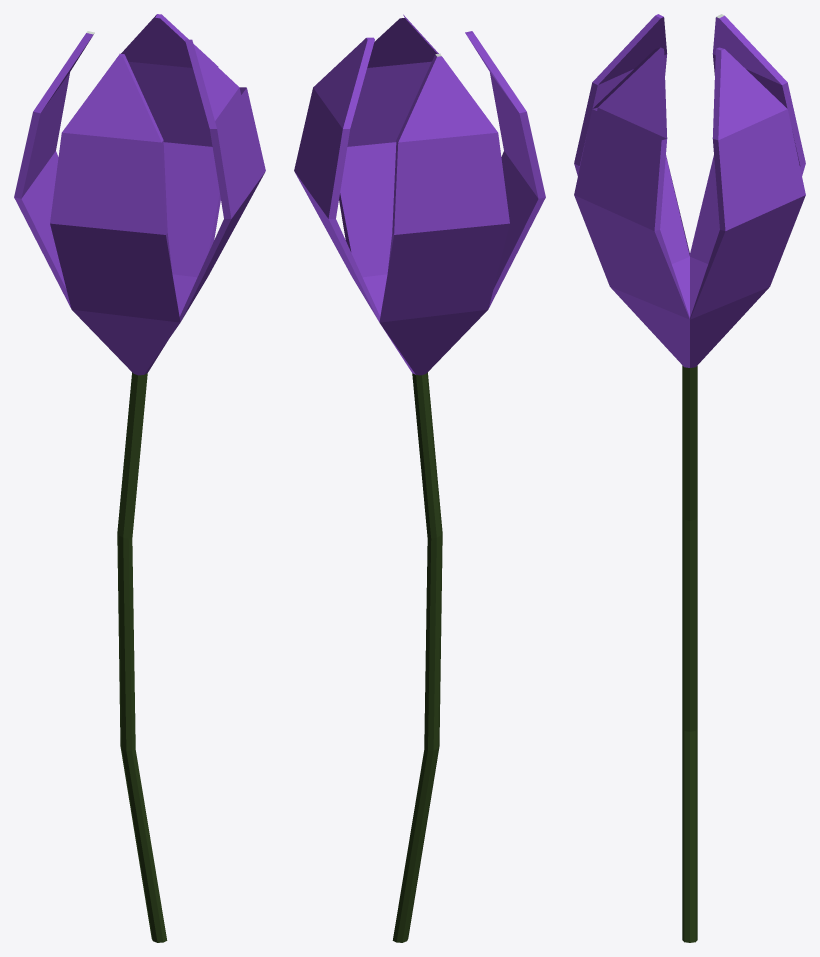
Rendered from flormodelo2.fbx.
3 views of the same model, side by side, from view 1: azimuth 30°, elevation 25°; view 2: azimuth 150°, elevation 25°; view 3: azimuth 270°, elevation 25° (orthographic).
Visible parts, largest first — view 1: Circle; view 2: Circle; view 3: Circle.
Boxes of the visible parts, x1,y1,x2,y2 form: Circle: (14,14,265,942); Circle: (294,14,545,942); Circle: (574,14,805,942).
Bounding box in the file's own units: 434 × 1744 × 408.
